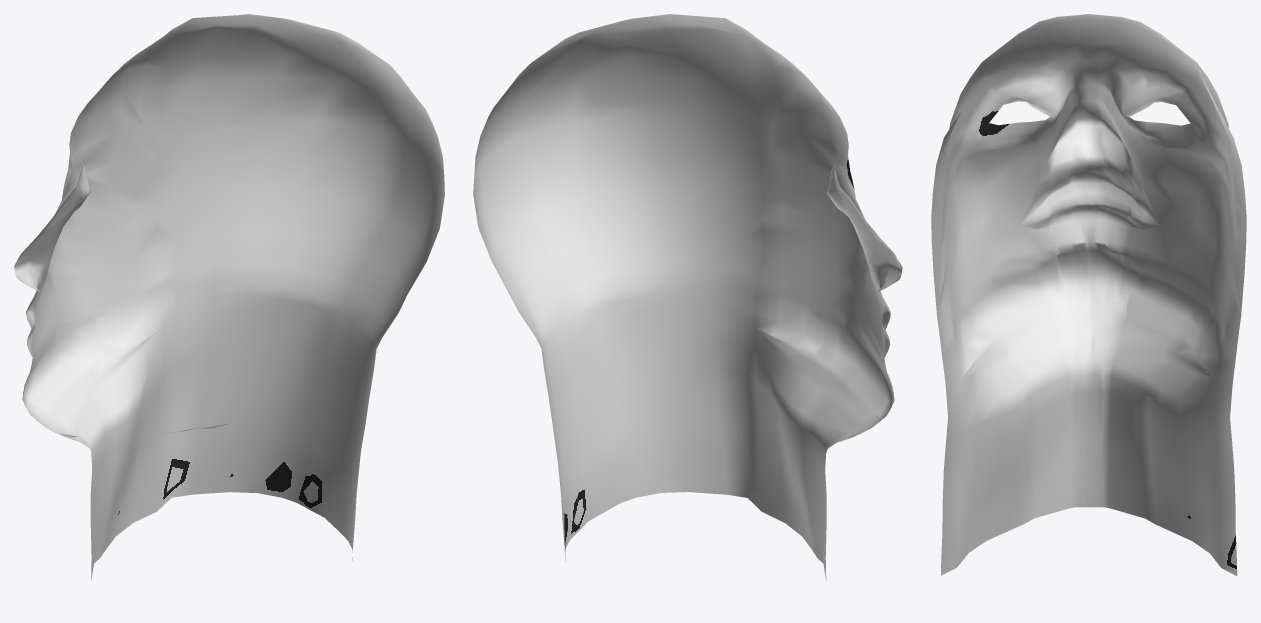
The model's file is cgalref_head_cgal_conformal_result.glb.
3 views of the same model, side by side, from view 1: azimuth 30°, elevation 25°; view 2: azimuth 150°, elevation 25°; view 3: azimuth 270°, elevation 25° (orthographic). The views are drawn at different scales.
Visible parts, largest first — view 1: parameterized; view 2: parameterized; view 3: parameterized.
Part boxes in pixels (box(x1,y1,x2,y2)): parameterized: box(14, 14, 444, 580); parameterized: box(473, 14, 902, 580); parameterized: box(931, 14, 1246, 575).
Bounding box in the file's own units: 80.37 × 100 × 52.42.
Materials: 1 (1 with a texture image).
